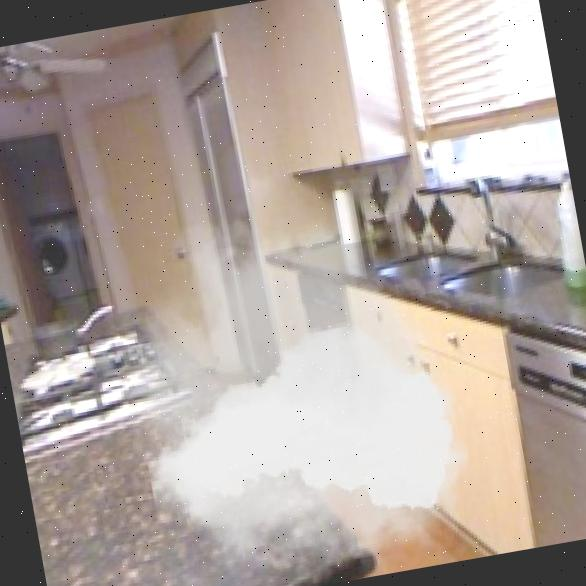smoke: (82, 160, 498, 586)
